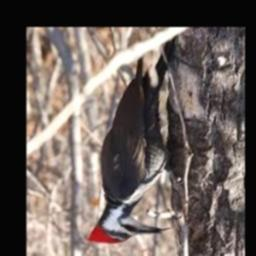Woodpecker: (88, 37, 172, 243)
